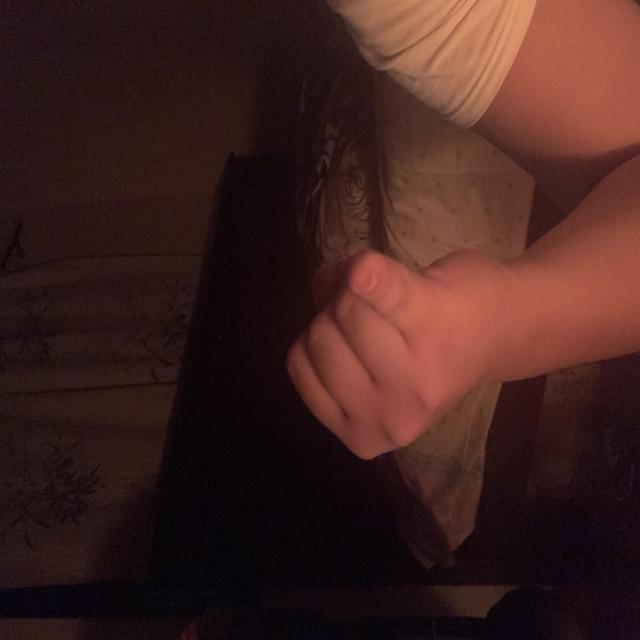J: (246, 288, 463, 515)
